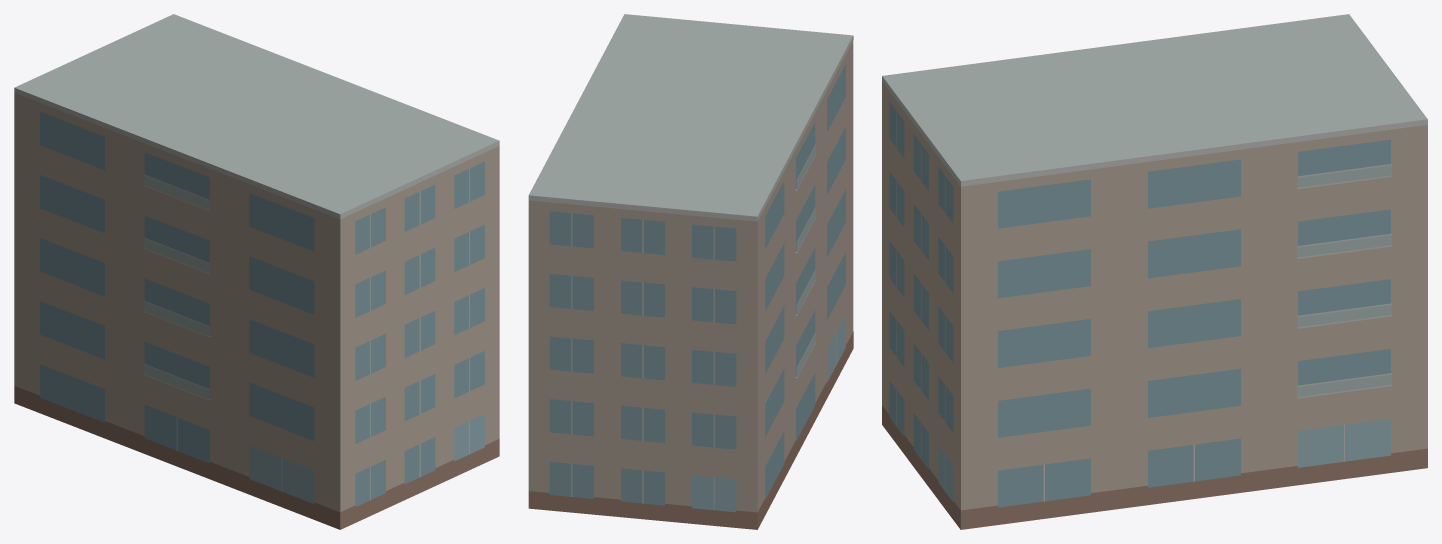
File: survey-upis-33045741.glb
The picture shows the model from 3 angles, left to right: view 1: azimuth 30°, elevation 25°; view 2: azimuth 150°, elevation 25°; view 3: azimuth 270°, elevation 25°; orthographic projection. The views are drawn at different scales.
Visible parts, largest first — view 1: survey-upis-33045741.tmp; view 2: survey-upis-33045741.tmp; view 3: survey-upis-33045741.tmp.
Boxes of the visible parts, <box> form: survey-upis-33045741.tmp: <box>14,14,499,529</box>; survey-upis-33045741.tmp: <box>528,14,853,529</box>; survey-upis-33045741.tmp: <box>882,14,1427,529</box>.
Bounding box in the file's own units: 15.68 × 15.25 × 21.64.
